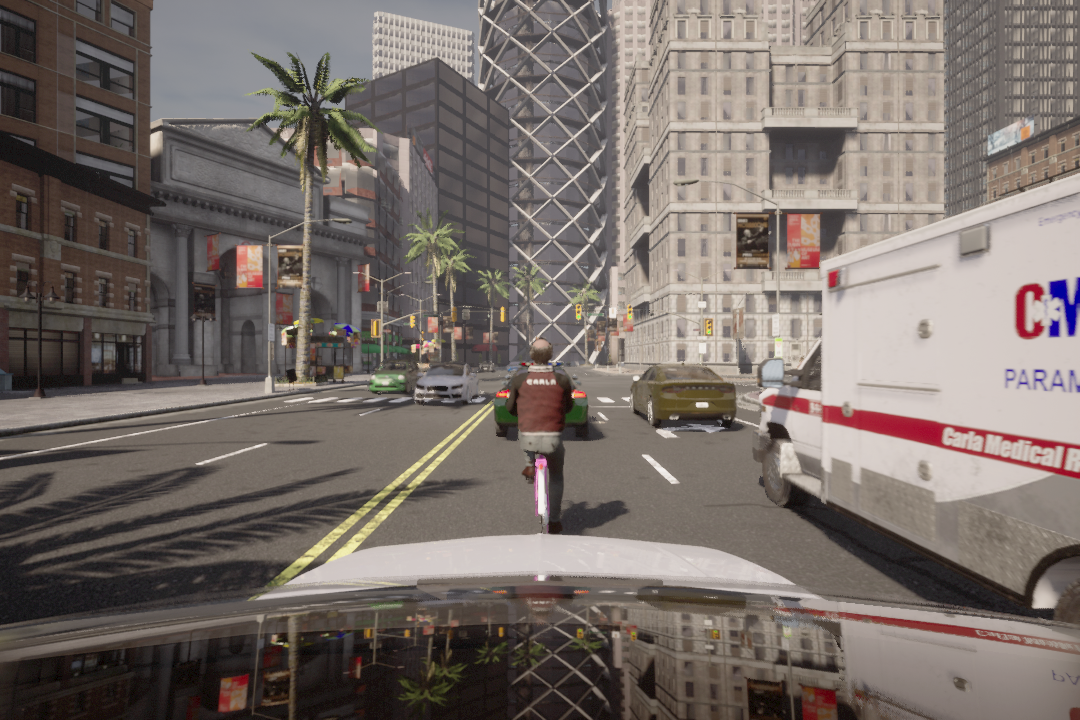RoadSign_right: (648, 420, 726, 443), (575, 305, 584, 323)
TrafficLight: (704, 318, 714, 335), (627, 304, 633, 322)
walkside: (282, 392, 638, 404)
